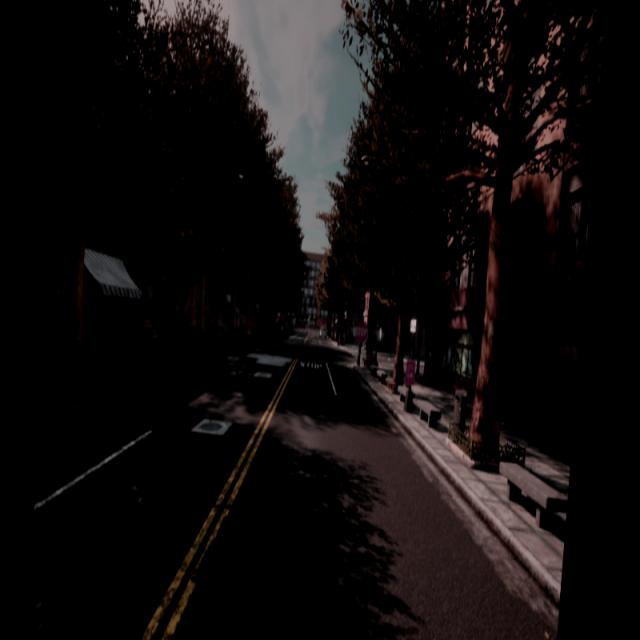stop sign: (351, 318, 370, 368), (351, 320, 369, 346)
